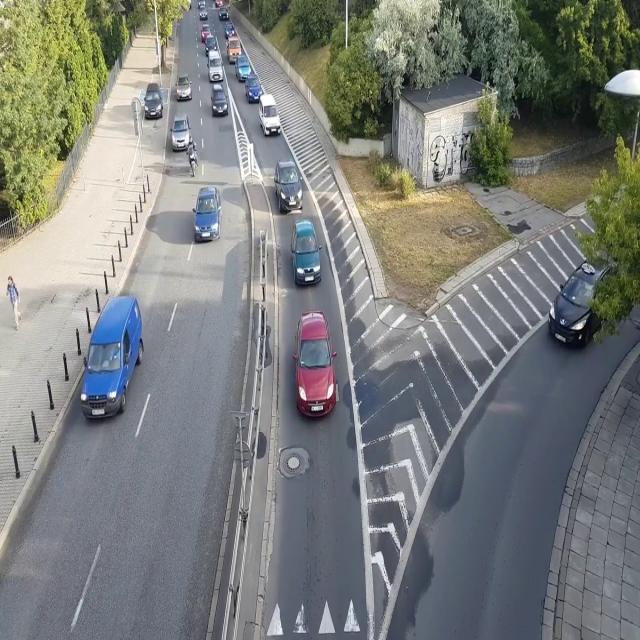car: (292, 308, 338, 418), (289, 216, 323, 286), (192, 186, 222, 244), (274, 159, 304, 213), (170, 114, 192, 152), (143, 82, 163, 121), (210, 84, 229, 119), (245, 73, 263, 104), (175, 73, 192, 100), (235, 54, 251, 80), (205, 36, 217, 58), (201, 23, 212, 43), (223, 22, 236, 38), (218, 7, 230, 22), (198, 6, 208, 22), (182, 0, 192, 8), (197, 0, 207, 7)
motorcycle: (184, 136, 200, 180)
truck: (225, 36, 242, 66)
van: (80, 295, 145, 422), (548, 252, 620, 352), (258, 94, 282, 138), (207, 51, 224, 82)
